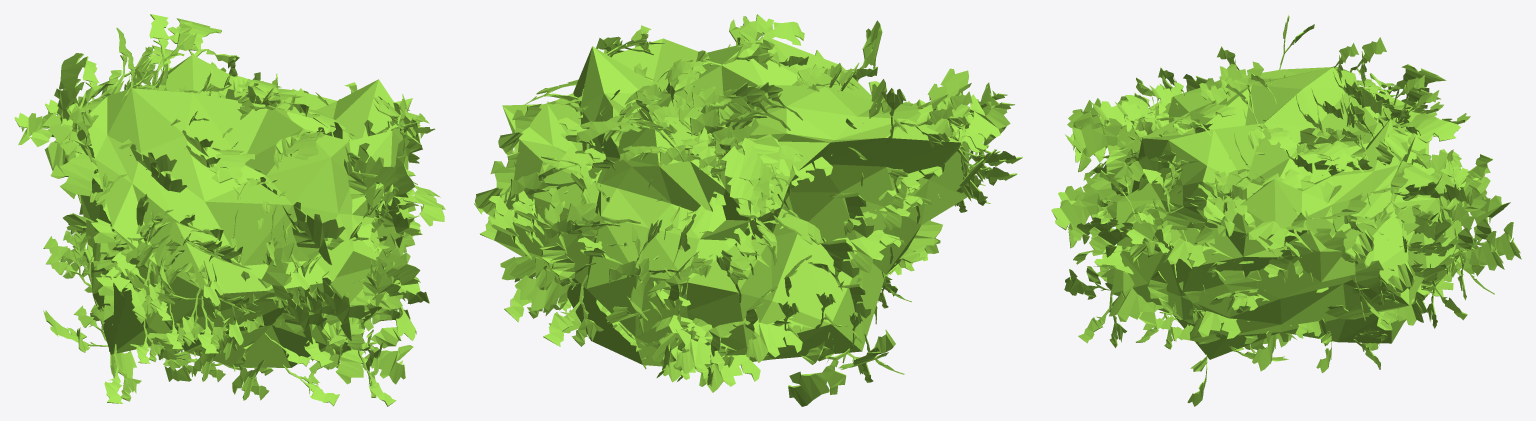
The model's file is krzak.fbx.
3 renders of one model, left to right at view 1: azimuth 30°, elevation 25°; view 2: azimuth 150°, elevation 25°; view 3: azimuth 270°, elevation 25°, orthographic. The views are drawn at different scales.
Parts seen in each view (by area): view 1: krzak_LOD0; view 2: krzak_LOD0; view 3: krzak_LOD0.
Part boxes in pixels (bbox=[...]): krzak_LOD0: bbox=[14, 14, 445, 406]; krzak_LOD0: bbox=[474, 14, 1022, 406]; krzak_LOD0: bbox=[1051, 15, 1521, 406].
Size of what is drawn, in the model's own units: 154 by 125 by 182.
